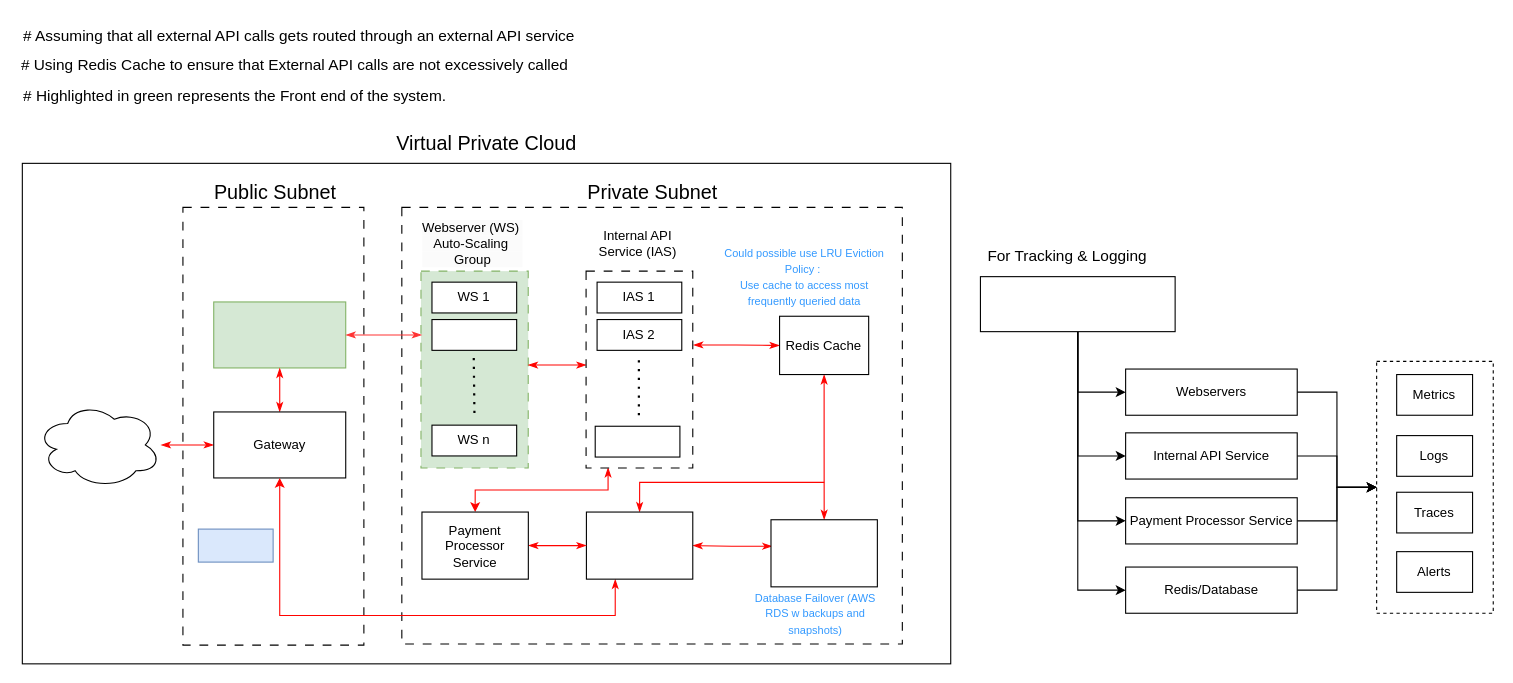
The diagram is 1513 pixels wide and 683 high, and some of its shapes have lost their labels. The centre of each missing label's shape, as x and y in pixels:
"External API Service Layer" goes at point 639,545.
"IAS n" goes at point 637,441.
"Internet" goes at point 98,444.
"NAT Gateway" goes at point 235,545.
"Observability Components" goes at point 1077,304.
"Public Load Balancer" goes at point 279,334.
"Relational Database" goes at point 823,553.
"WS 2" goes at point 474,334.
